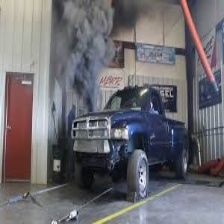smoke: (54, 1, 115, 107)
